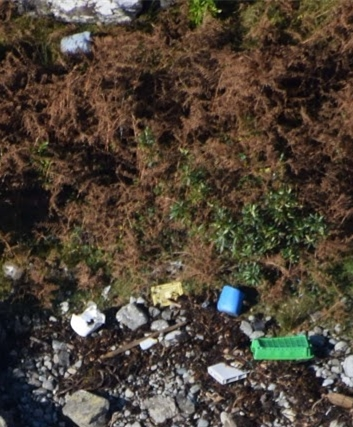scattered_barrel: (200, 279, 321, 396)
white_in_green: (53, 283, 125, 354), (131, 259, 205, 322), (42, 11, 116, 70)
